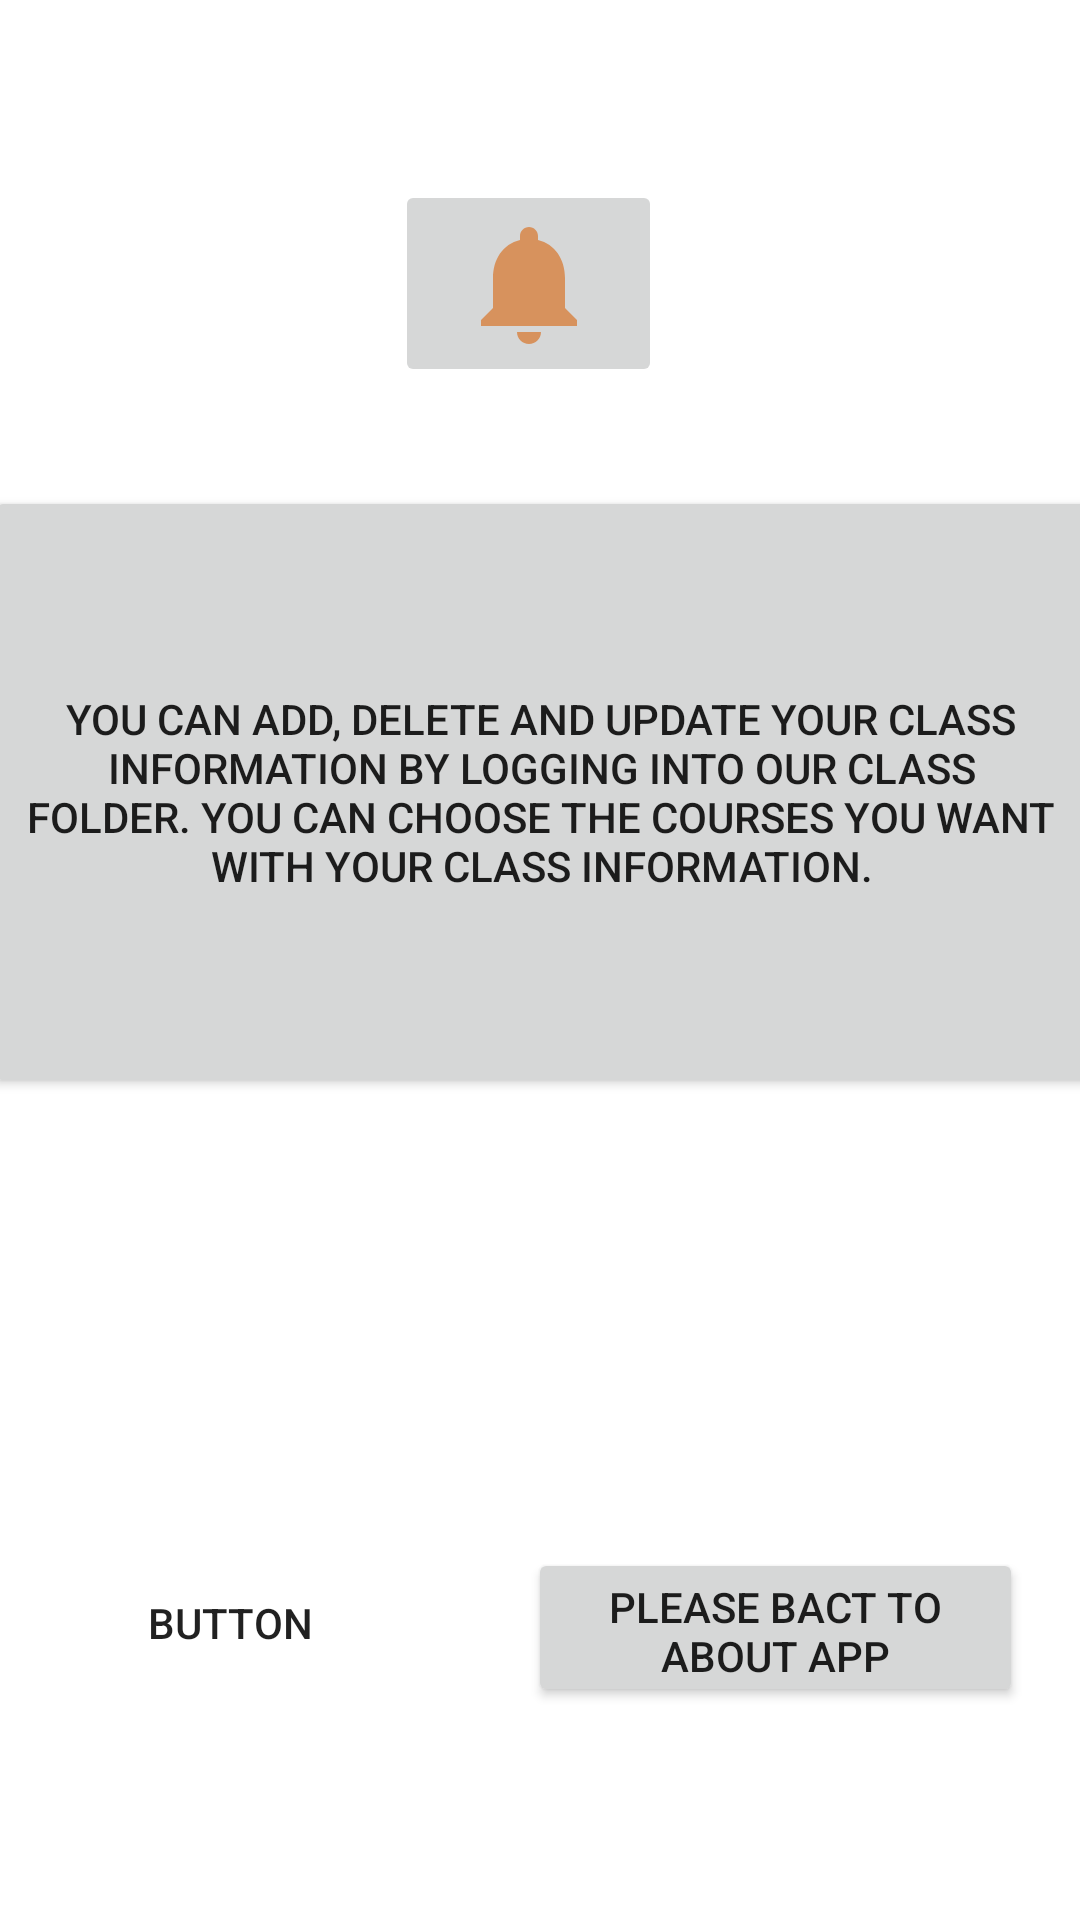

Where icons sit on this 1080 x 1920 app screen, as bbox=[x1, y1, x2, y2]:
notifications: bbox=[407, 198, 650, 369]
